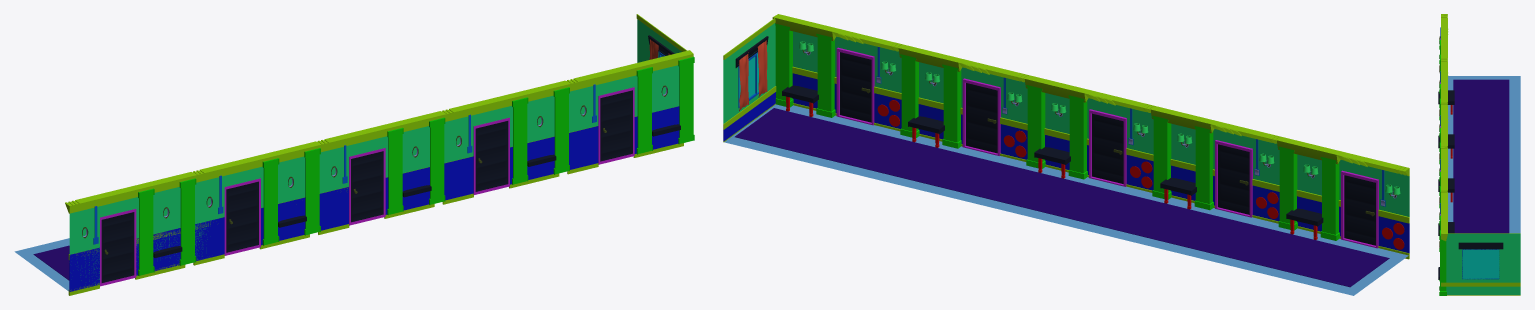
Rendered from coridor.fbx.
3 views of the same model, side by side, from view 1: azimuth 30°, elevation 25°; view 2: azimuth 150°, elevation 25°; view 3: azimuth 270°, elevation 25° (orthographic). The views are drawn at different scales.
Visible parts, largest first — view 1: Cube.007, Cube.115, Cube.010, Cube.107, Cube.096, Cube.013, Cube.024, Cube.006, Cube.068, Cube, Cube.046, Cube.090 (+7 smaller); view 2: Cube.005, Cube.007, Cube.003, Cube.010, Cube.107, Cube.115, Cube.096, Cube.012, Cylinder.004, Cube.046, Cube.068, Cube.024 (+15 smaller); view 3: Cube.005, Cube.007, Cube.003, Cube.107, Cube.114, Cube.103, Cube.117, Cube.113, Cube.042, Cube.020, Cube.064, Cube.112 (+3 smaller).
Part boxes in pixels (left/top/right/bottom): Cube.007: left=69, top=19, right=681, bottom=284; Cube.115: left=69, top=106, right=679, bottom=291; Cube.010: left=101, top=90, right=632, bottom=282; Cube.107: left=65, top=50, right=693, bottom=213; Cube.096: left=100, top=87, right=634, bottom=286; Cube.013: left=68, top=143, right=683, bottom=295; Cube.024: left=262, top=158, right=279, bottom=245; Cube.006: left=179, top=178, right=196, bottom=265; Cube.068: left=512, top=97, right=528, bottom=184; Cube: left=138, top=188, right=154, bottom=275; Cube.046: left=387, top=127, right=403, bottom=215; Cube.090: left=636, top=67, right=652, bottom=154; Cube.005: left=735, top=108, right=1389, bottom=287; Cube.007: left=723, top=23, right=1409, bottom=216; Cube.003: left=724, top=104, right=1408, bottom=295; Cube.010: left=840, top=52, right=1375, bottom=245; Cube.107: left=772, top=14, right=1409, bottom=176; Cube.115: left=723, top=73, right=1409, bottom=253; Cube.096: left=836, top=47, right=1378, bottom=248; Cube.012: left=792, top=66, right=1409, bottom=223; Cylinder.004: left=877, top=100, right=1404, bottom=249; Cube.046: left=1068, top=95, right=1087, bottom=179; Cube.068: left=942, top=64, right=961, bottom=148; Cube.024: left=1194, top=126, right=1213, bottom=210; Cube.005: left=1453, top=79, right=1509, bottom=233; Cube.007: left=1446, top=233, right=1520, bottom=294; Cube.003: left=1447, top=76, right=1520, bottom=233; Cube.107: left=1441, top=14, right=1448, bottom=241; Cube.114: left=1462, top=249, right=1499, bottom=279; Cube.103: left=1439, top=230, right=1446, bottom=295; Cube.117: left=1441, top=282, right=1520, bottom=286; Cube.113: left=1458, top=242, right=1503, bottom=249; Cube.042: left=1438, top=134, right=1454, bottom=148; Cube.020: left=1438, top=90, right=1454, bottom=104; Cube.064: left=1438, top=178, right=1454, bottom=192; Cube.112: left=1462, top=249, right=1499, bottom=279.
Bounding box in the file's own units: 2334 × 321 × 370.
